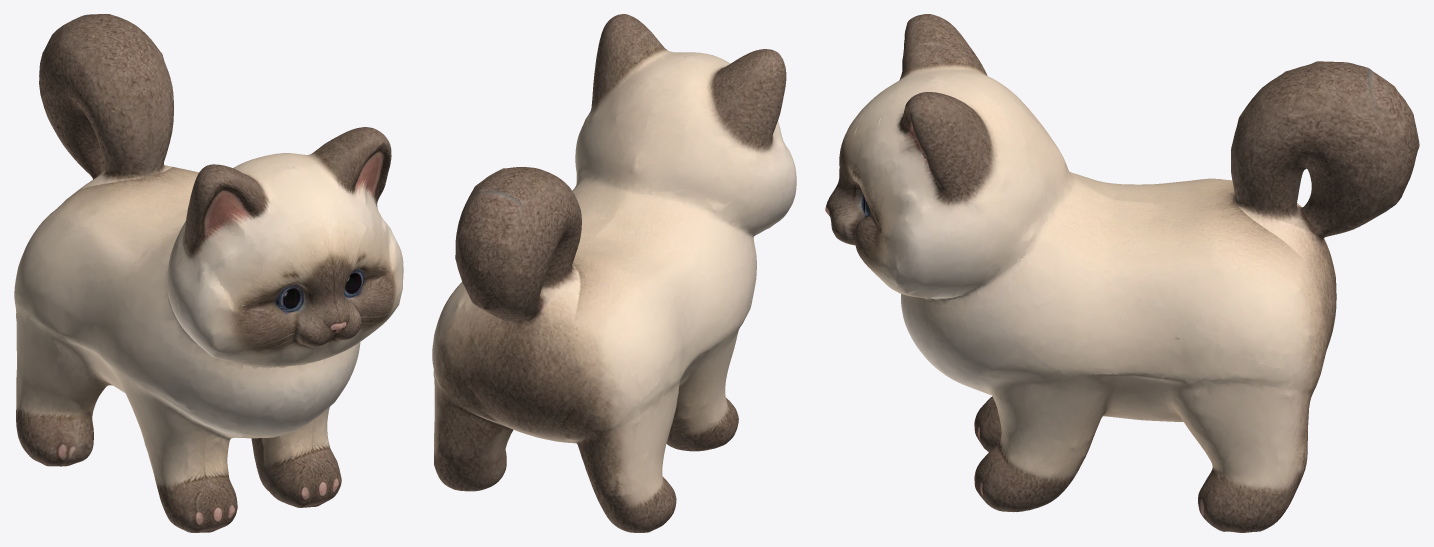
File: meshy-ragdoll.glb
3 views of the same model, side by side, from view 1: azimuth 30°, elevation 25°; view 2: azimuth 150°, elevation 25°; view 3: azimuth 270°, elevation 25° (orthographic). The views are drawn at different scales.
Parts seen in each view (by area): view 1: Mesh_0; view 2: Mesh_0; view 3: Mesh_0.
Part boxes in pixels (x1=…): Mesh_0: x1=14, y1=14, x2=403, y2=532; Mesh_0: x1=432, y1=14, x2=796, y2=532; Mesh_0: x1=825, y1=14, x2=1419, y2=532.
Size of the model in its own units: 0.9615 by 1.49 by 1.9.
1 material, 1 textured.
